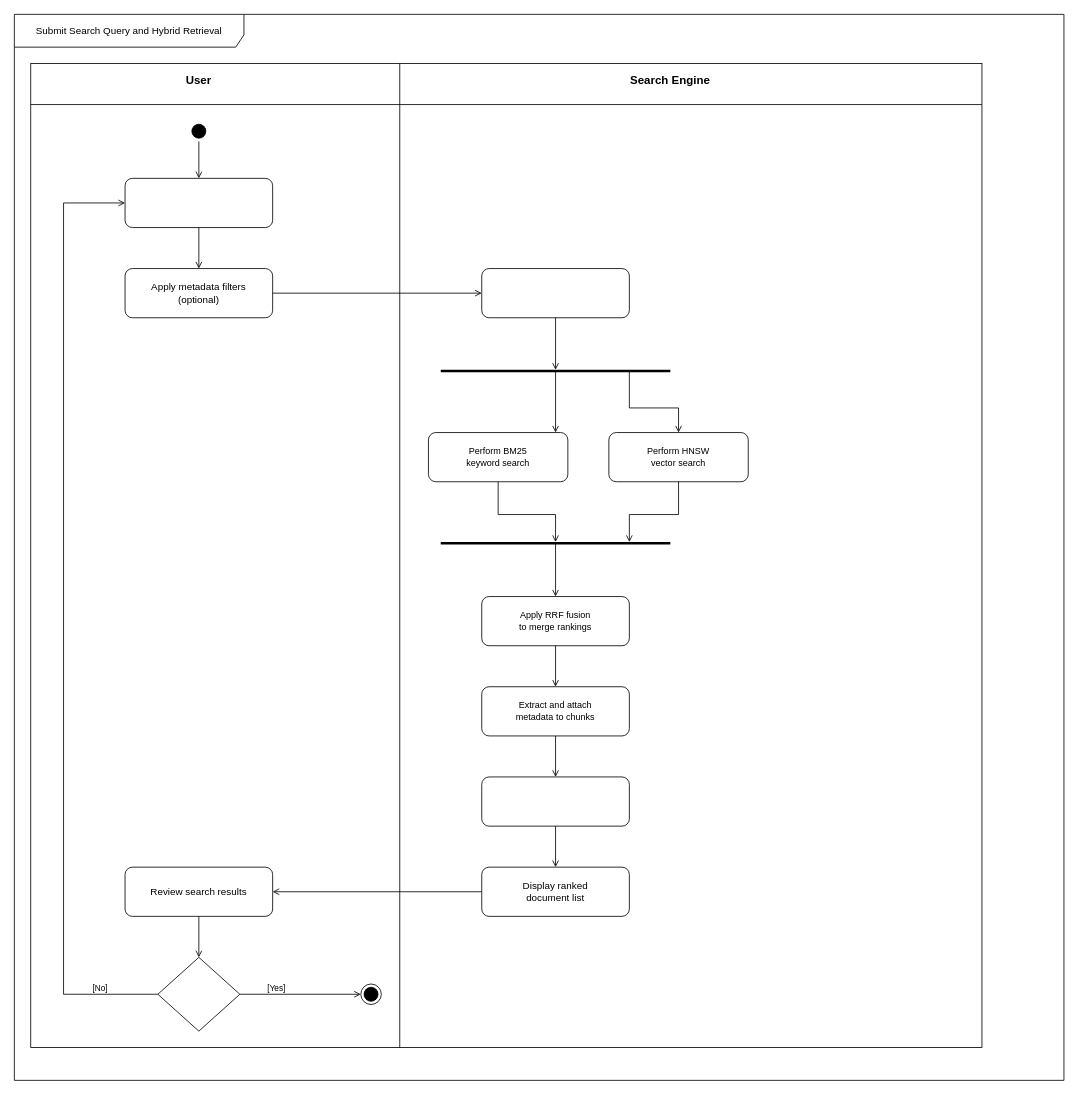
This 1078x1095 diagram has some shape labels left out. Each missing label, with the centre of its shape:
Apply multimodal listwise reranking: the point at 555,801
Enter search query in text input: the point at 198,203
Preprocess query (tokenization, stemming): the point at 555,293
Results Satisfactory?: the point at 198,994
